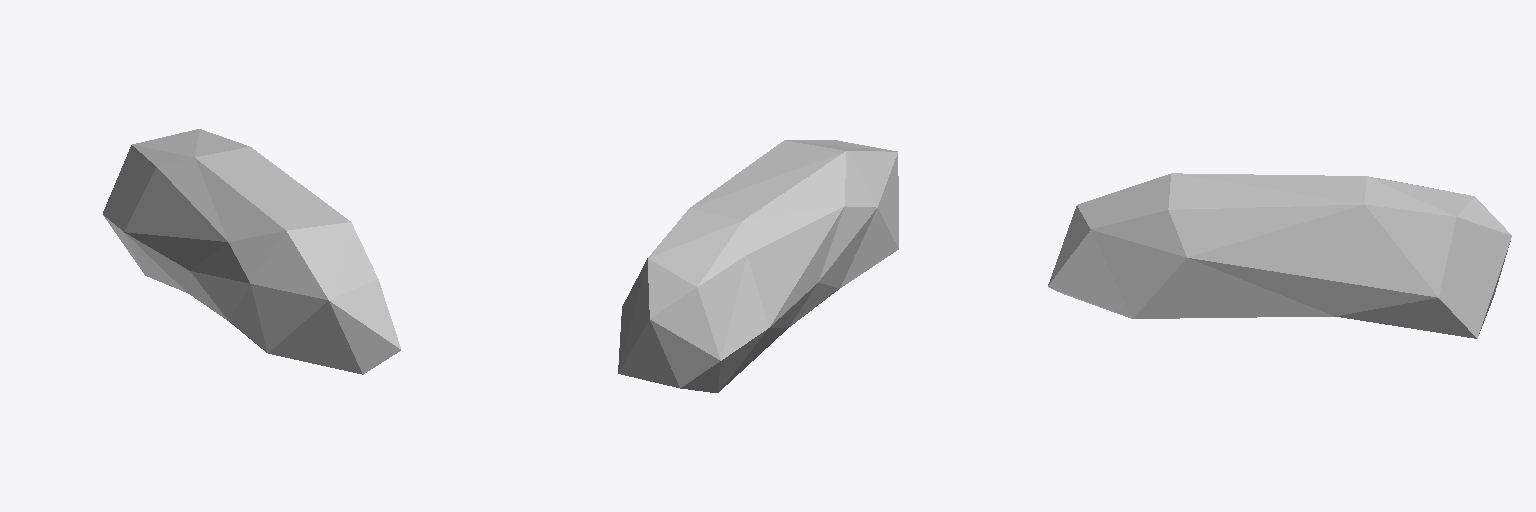
The model's file is sim_ecub_1-1_l_hand_ring_2.obj.
3 renders of one model, left to right at view 1: azimuth 30°, elevation 25°; view 2: azimuth 150°, elevation 25°; view 3: azimuth 270°, elevation 25°, orthographic.
Size of the model in its own units: 18.98 by 19.37 by 57.31.